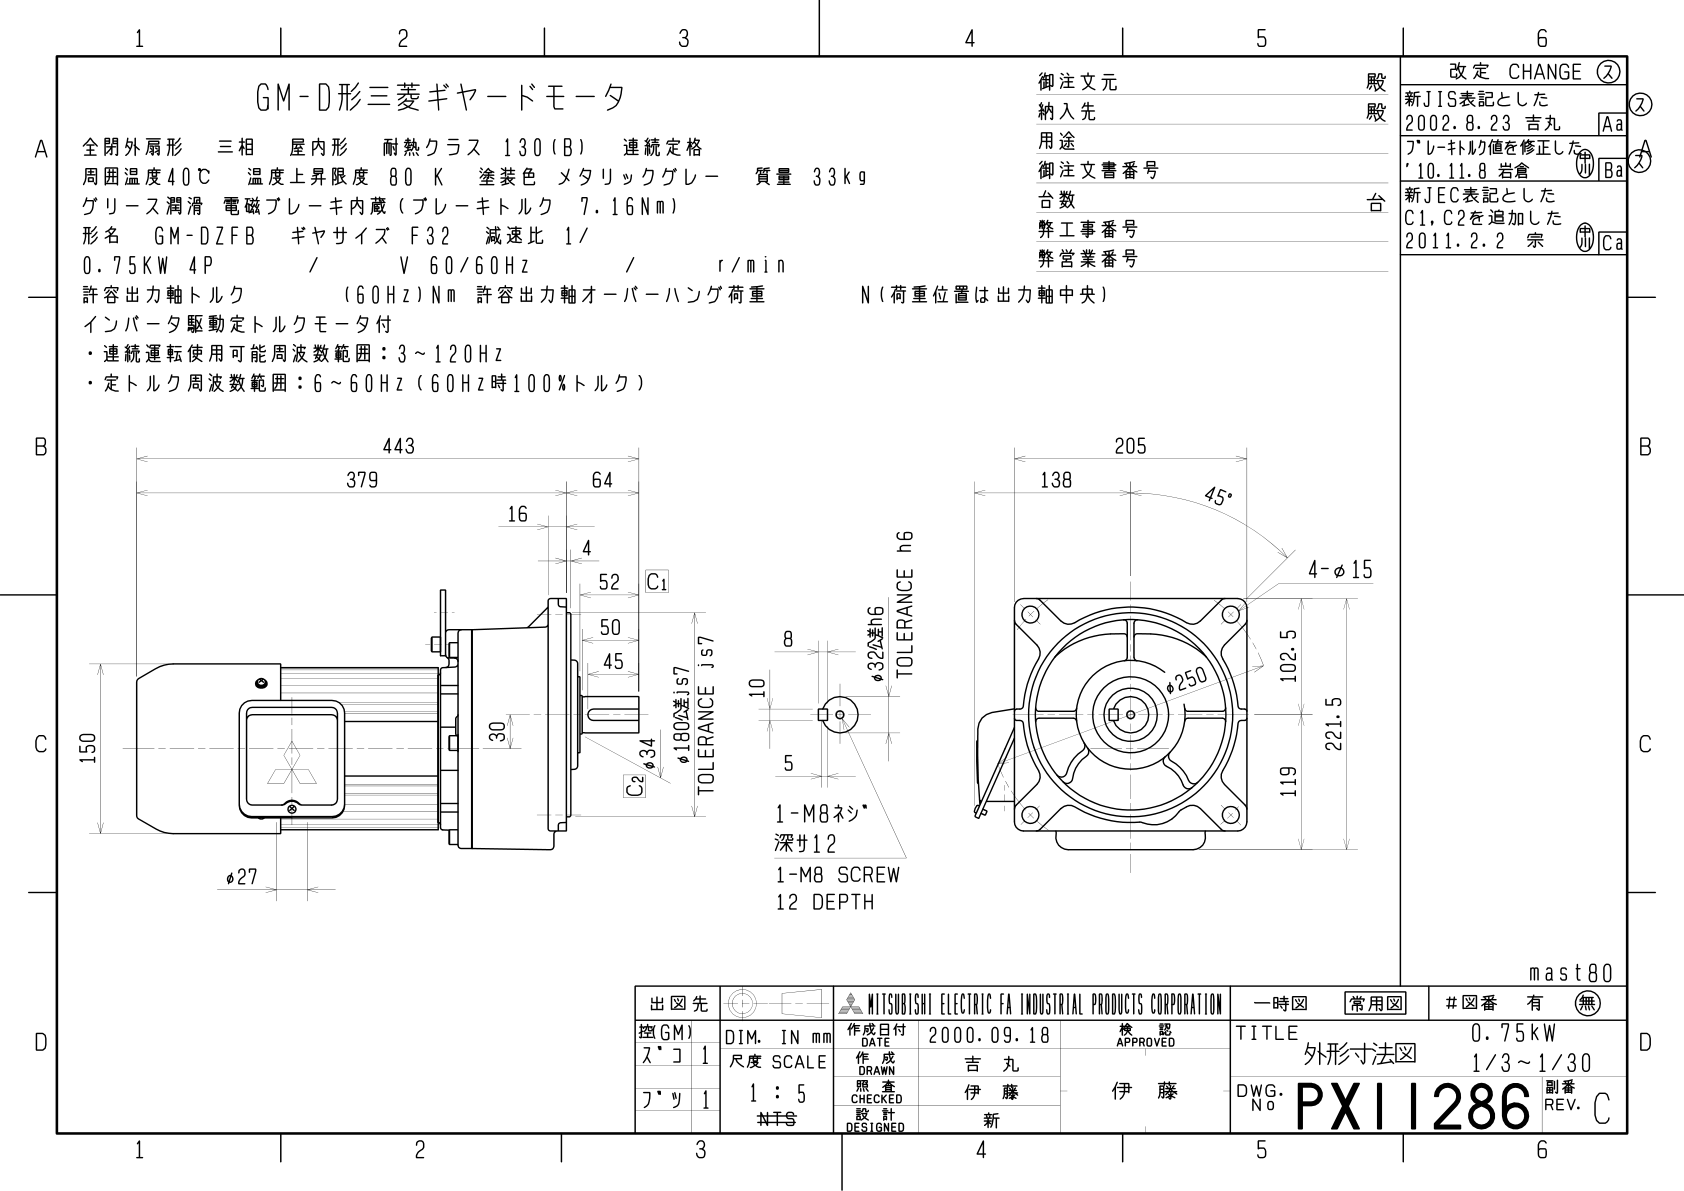GM_D_インバータ屋内_三相_フランジ: (67, 421, 1392, 959)
